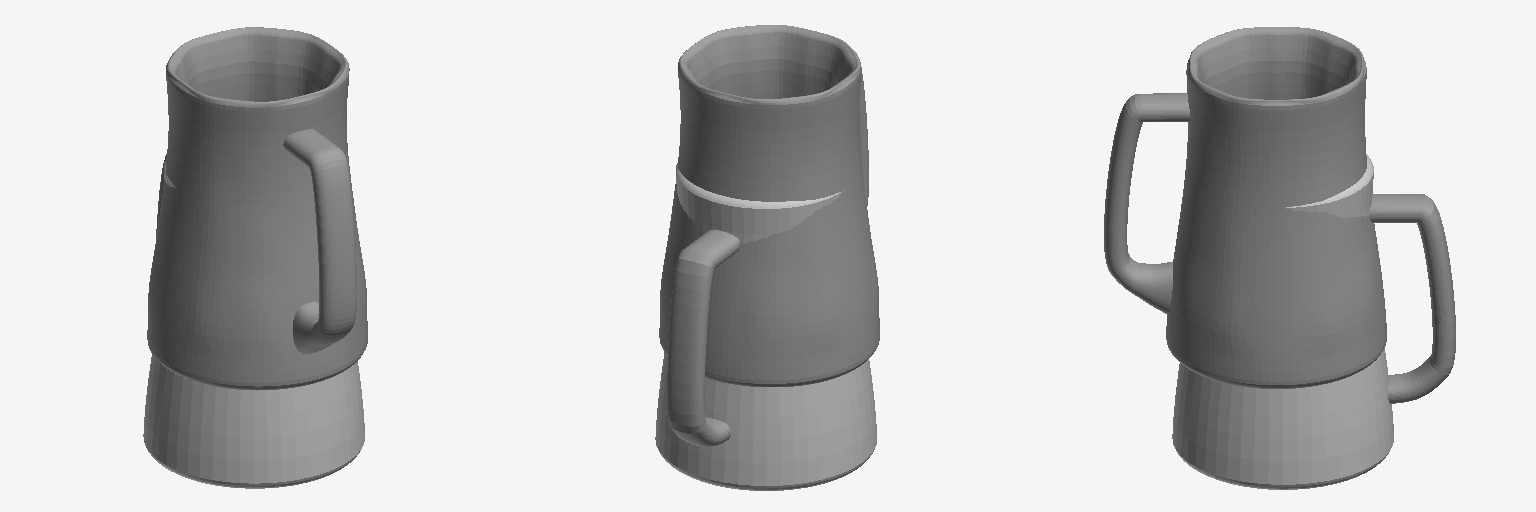
The model's file is Mug.obj.
3 views of the same model, side by side, from view 1: azimuth 30°, elevation 25°; view 2: azimuth 150°, elevation 25°; view 3: azimuth 270°, elevation 25° (orthographic).
Parts seen in each view (by area): view 1: CurveCircle.001_Mesh.002, CurveCircle, Curve.002_Mesh.003; view 2: CurveCircle.001_Mesh.002, CurveCircle, Curve.001, Curve.002_Mesh.003; view 3: CurveCircle.001_Mesh.002, CurveCircle, Curve.002_Mesh.003, Curve.001.
Boxes of the visible parts, box(x1,y1,x2,y2) form: CurveCircle.001_Mesh.002: box(147, 27, 367, 390); CurveCircle: box(143, 159, 364, 488); Curve.002_Mesh.003: box(283, 129, 356, 353); CurveCircle.001_Mesh.002: box(659, 25, 879, 386); CurveCircle: box(655, 163, 876, 490); Curve.001: box(667, 230, 739, 446); Curve.002_Mesh.003: box(855, 52, 868, 205); CurveCircle.001_Mesh.002: box(1166, 27, 1386, 388); CurveCircle: box(1172, 154, 1393, 489); Curve.002_Mesh.003: box(1104, 93, 1189, 314); Curve.001: box(1370, 194, 1455, 403).
Bounding box in the file's own units: 2.21 × 4.23 × 3.5.